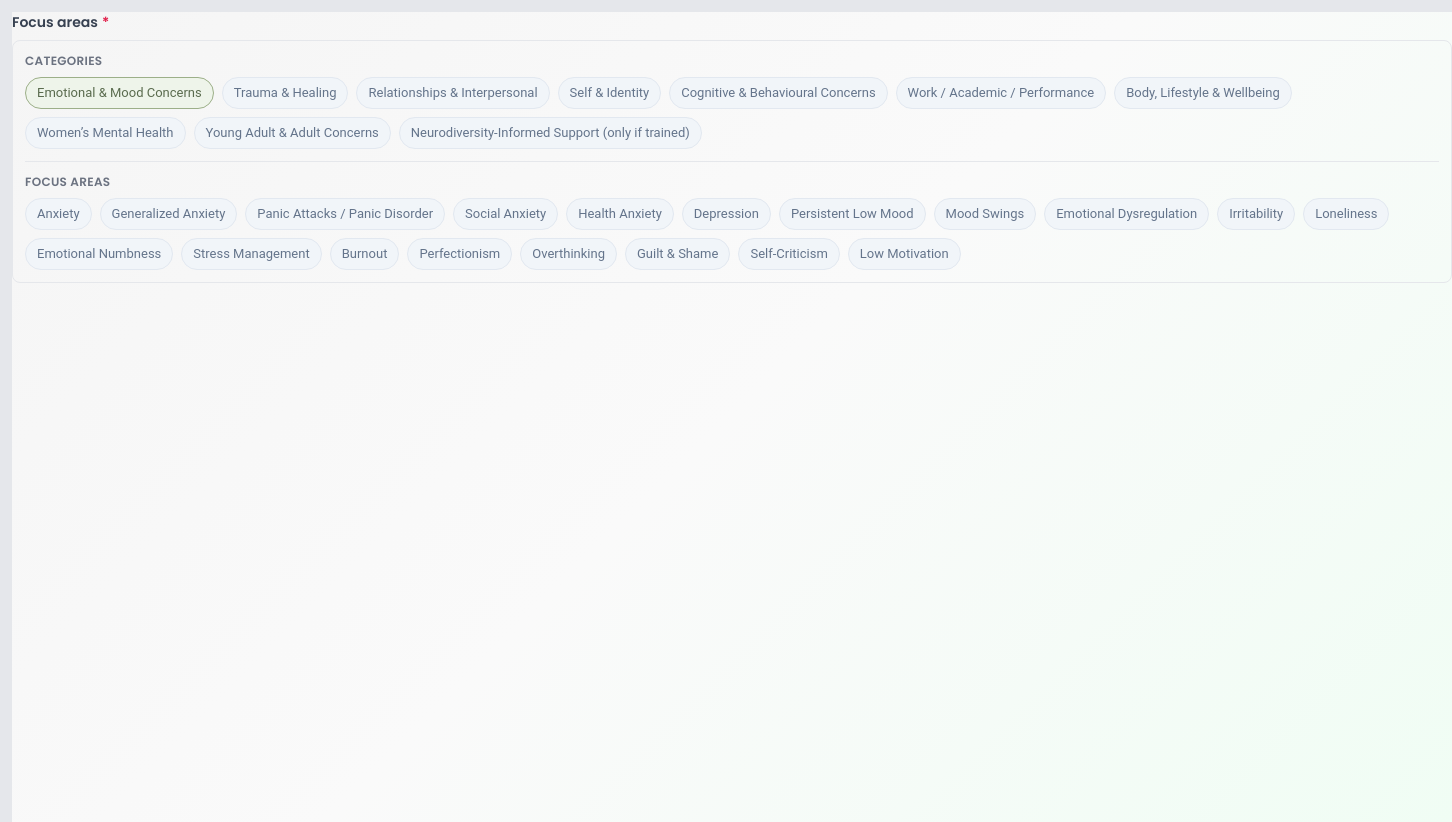
it: FocusAreasPicker › renders a category's sub-options when it is opened
Click the button "Trauma & Healing".
click(285, 93)  # box [222, 77, 348, 109]
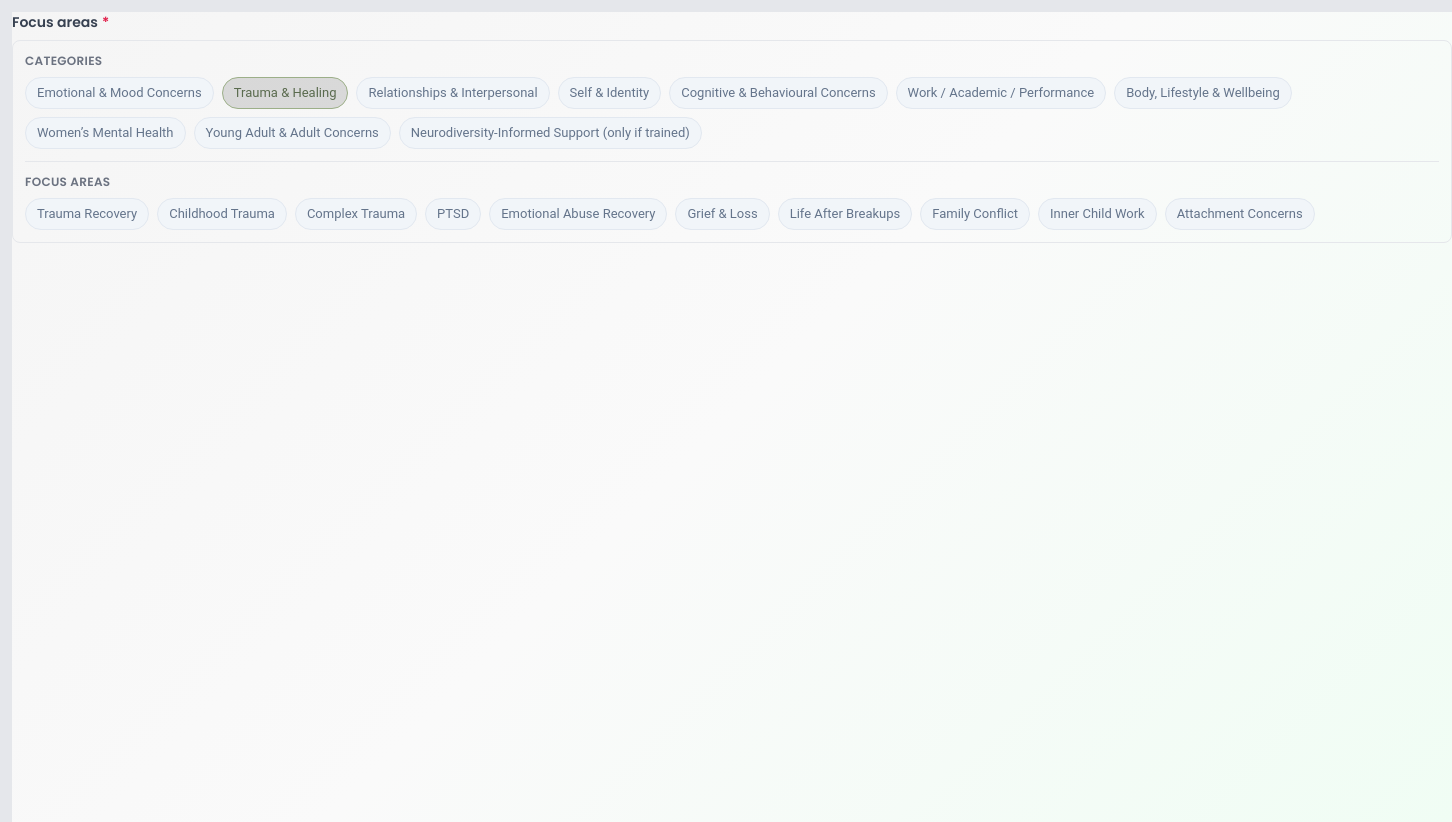
Expected: the button "PTSD" is shown, [425, 198, 481, 230]
Expected: the button "Childhood Trauma" is shown, [157, 198, 287, 230]
